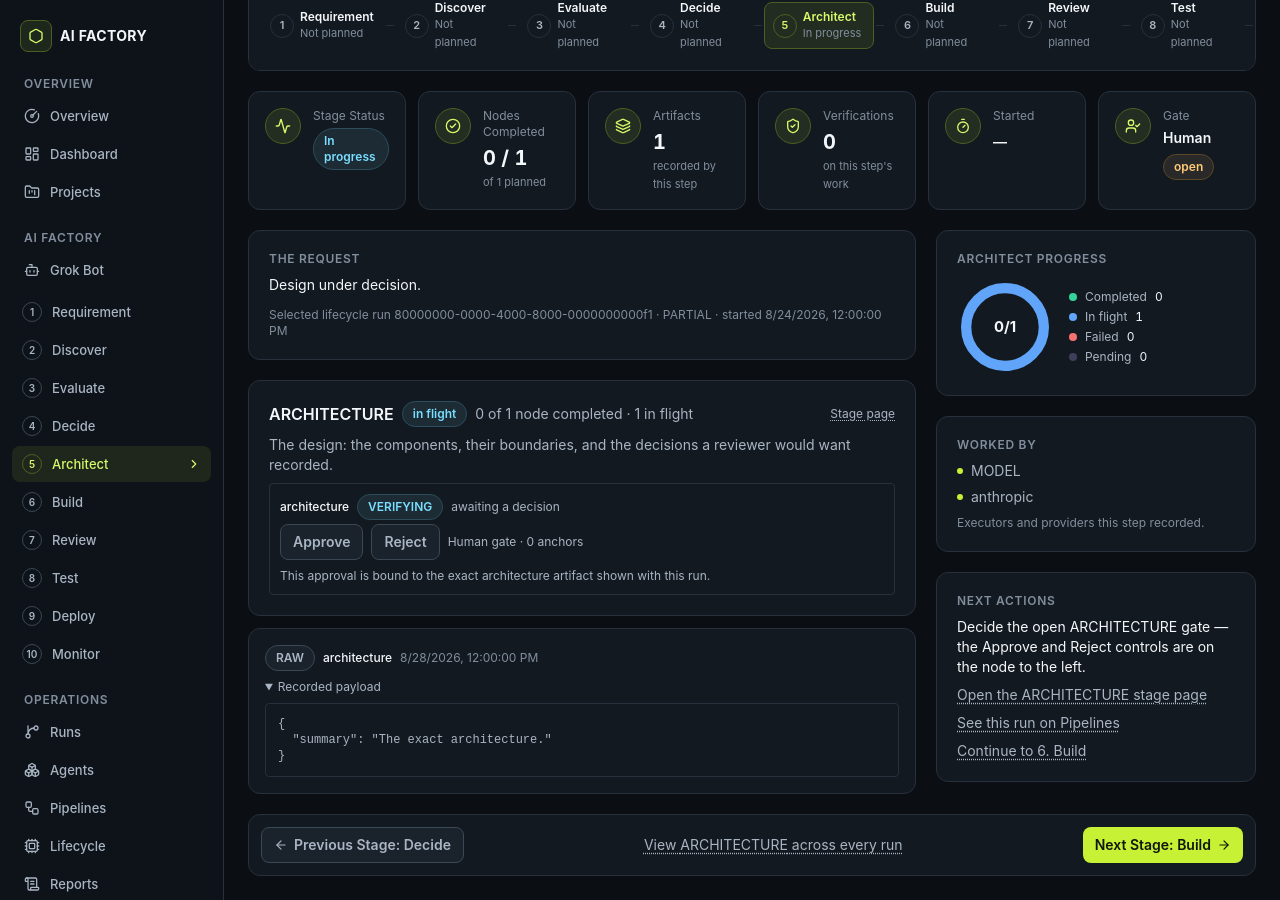
it: a factory step page › offers an open gate's decision on the step that holds it
The width and height of the screenshot is (1280, 900).
(page scrolled)
Click the button "Approve" at coordinates (322, 542), box [280,524,363,560]
(page scrolled)
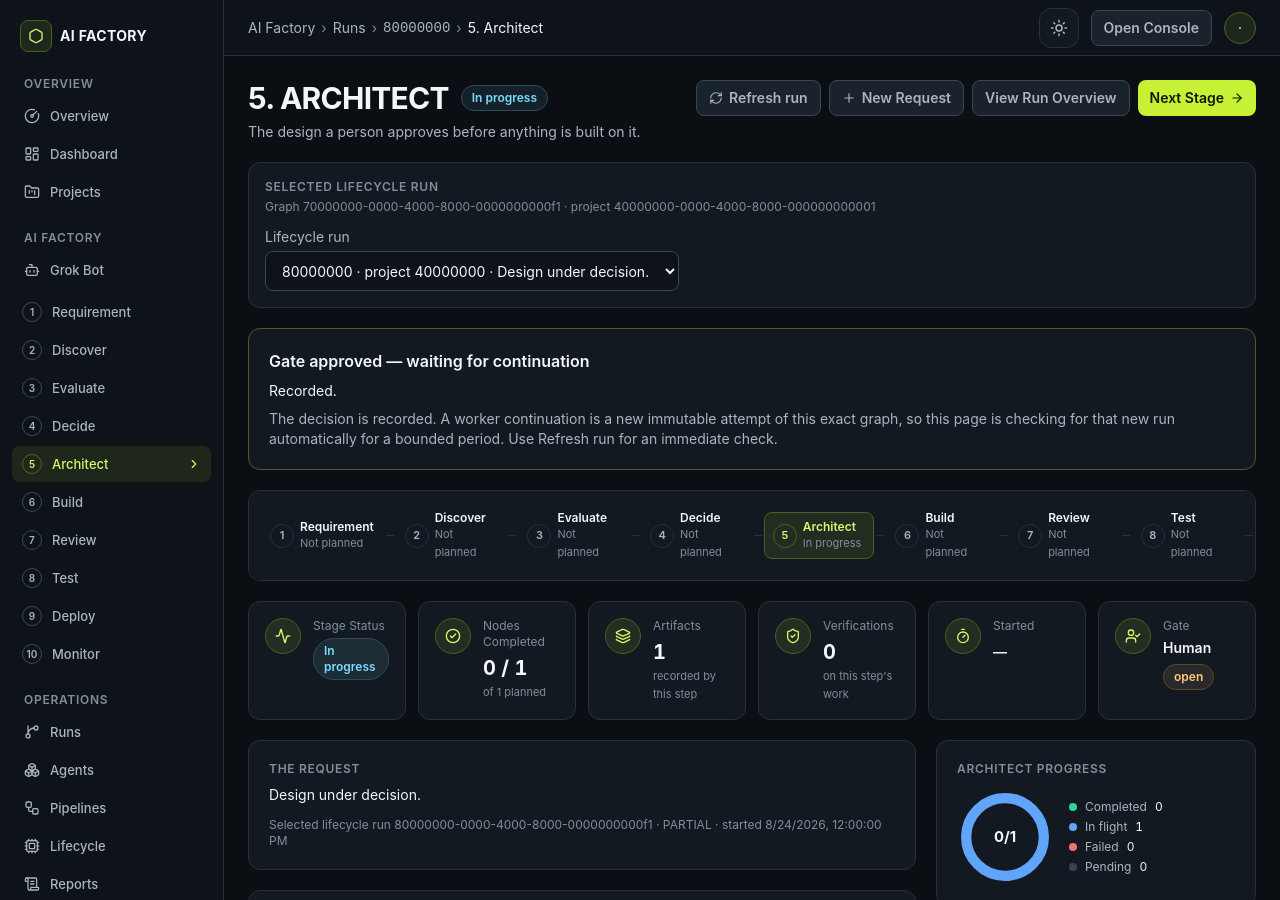
Now the heading "Gate approved — waiting for continuation" is shown, box [269,351,590,371]
